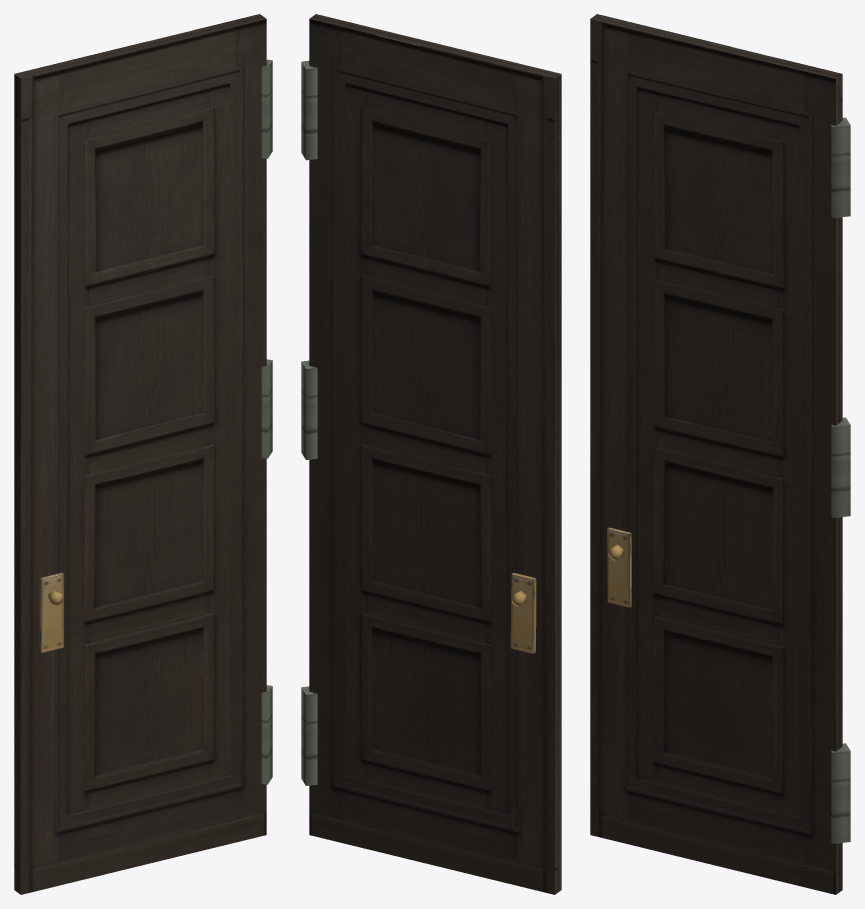
Rendered from Royal_Hall_Door.FBX.
3 views of the same model, side by side, from view 1: azimuth 30°, elevation 25°; view 2: azimuth 150°, elevation 25°; view 3: azimuth 330°, elevation 25° (orthographic).
Visible parts, largest first — view 1: Royal_Hall_Door; view 2: Royal_Hall_Door; view 3: Royal_Hall_Door.
Boxes of the visible parts, x1,y1,x2,y2 form: Royal_Hall_Door: [14, 14, 272, 894]; Royal_Hall_Door: [301, 14, 561, 894]; Royal_Hall_Door: [590, 14, 850, 894].
Size of the model in its own units: 0.8568 by 2.61 by 0.1444.
